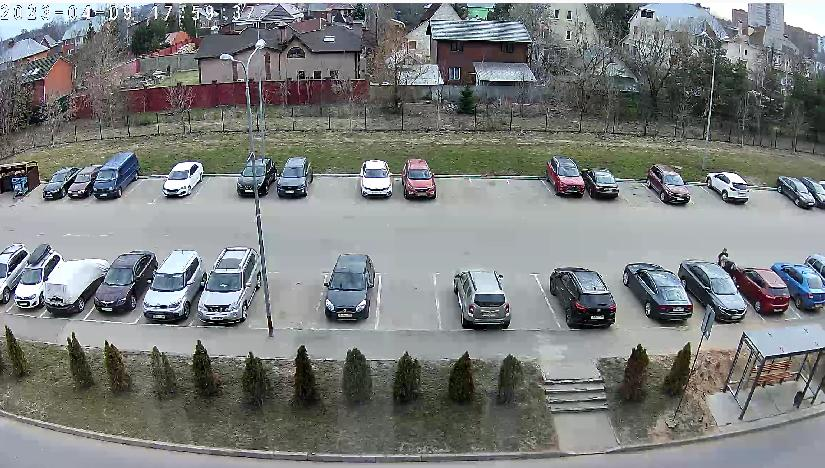empty: (193, 248, 265, 325), (315, 252, 391, 323), (133, 249, 202, 325), (449, 269, 526, 328), (676, 260, 747, 323), (625, 265, 693, 329), (42, 257, 113, 318), (549, 266, 617, 328), (91, 253, 156, 316), (0, 243, 57, 311), (728, 267, 791, 316), (769, 260, 823, 313), (96, 150, 139, 204), (269, 158, 321, 199), (644, 168, 697, 204), (703, 173, 761, 205), (157, 162, 206, 199), (544, 160, 589, 199), (397, 163, 441, 202), (775, 178, 825, 211), (1, 163, 40, 200), (356, 166, 399, 199), (235, 161, 274, 197), (67, 162, 100, 204), (585, 167, 625, 199), (45, 167, 72, 200)
occupied: (248, 267, 323, 330), (502, 265, 555, 331), (380, 285, 444, 326), (502, 167, 550, 200), (614, 172, 653, 205), (678, 178, 721, 205), (748, 178, 782, 211), (470, 173, 508, 200), (200, 180, 239, 200), (318, 182, 360, 200), (133, 183, 169, 201), (441, 180, 471, 198)
